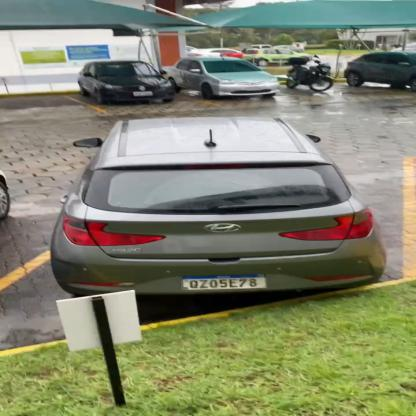Plate: (180, 271, 270, 294)
